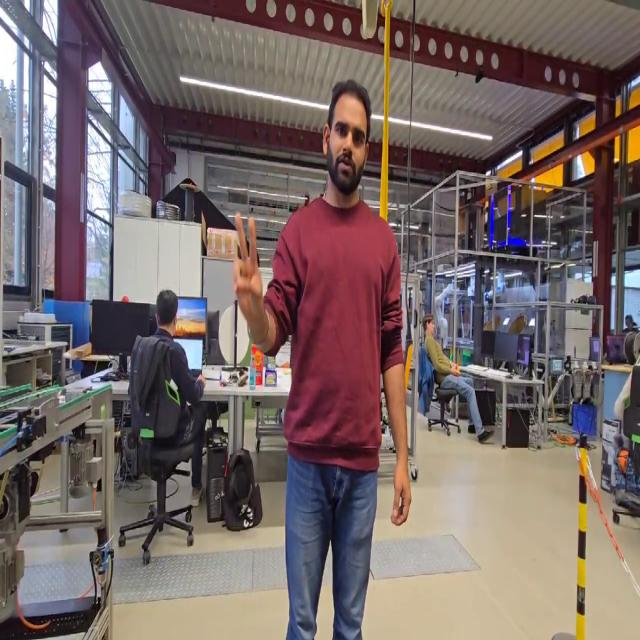v_sign: (229, 209, 268, 344)
